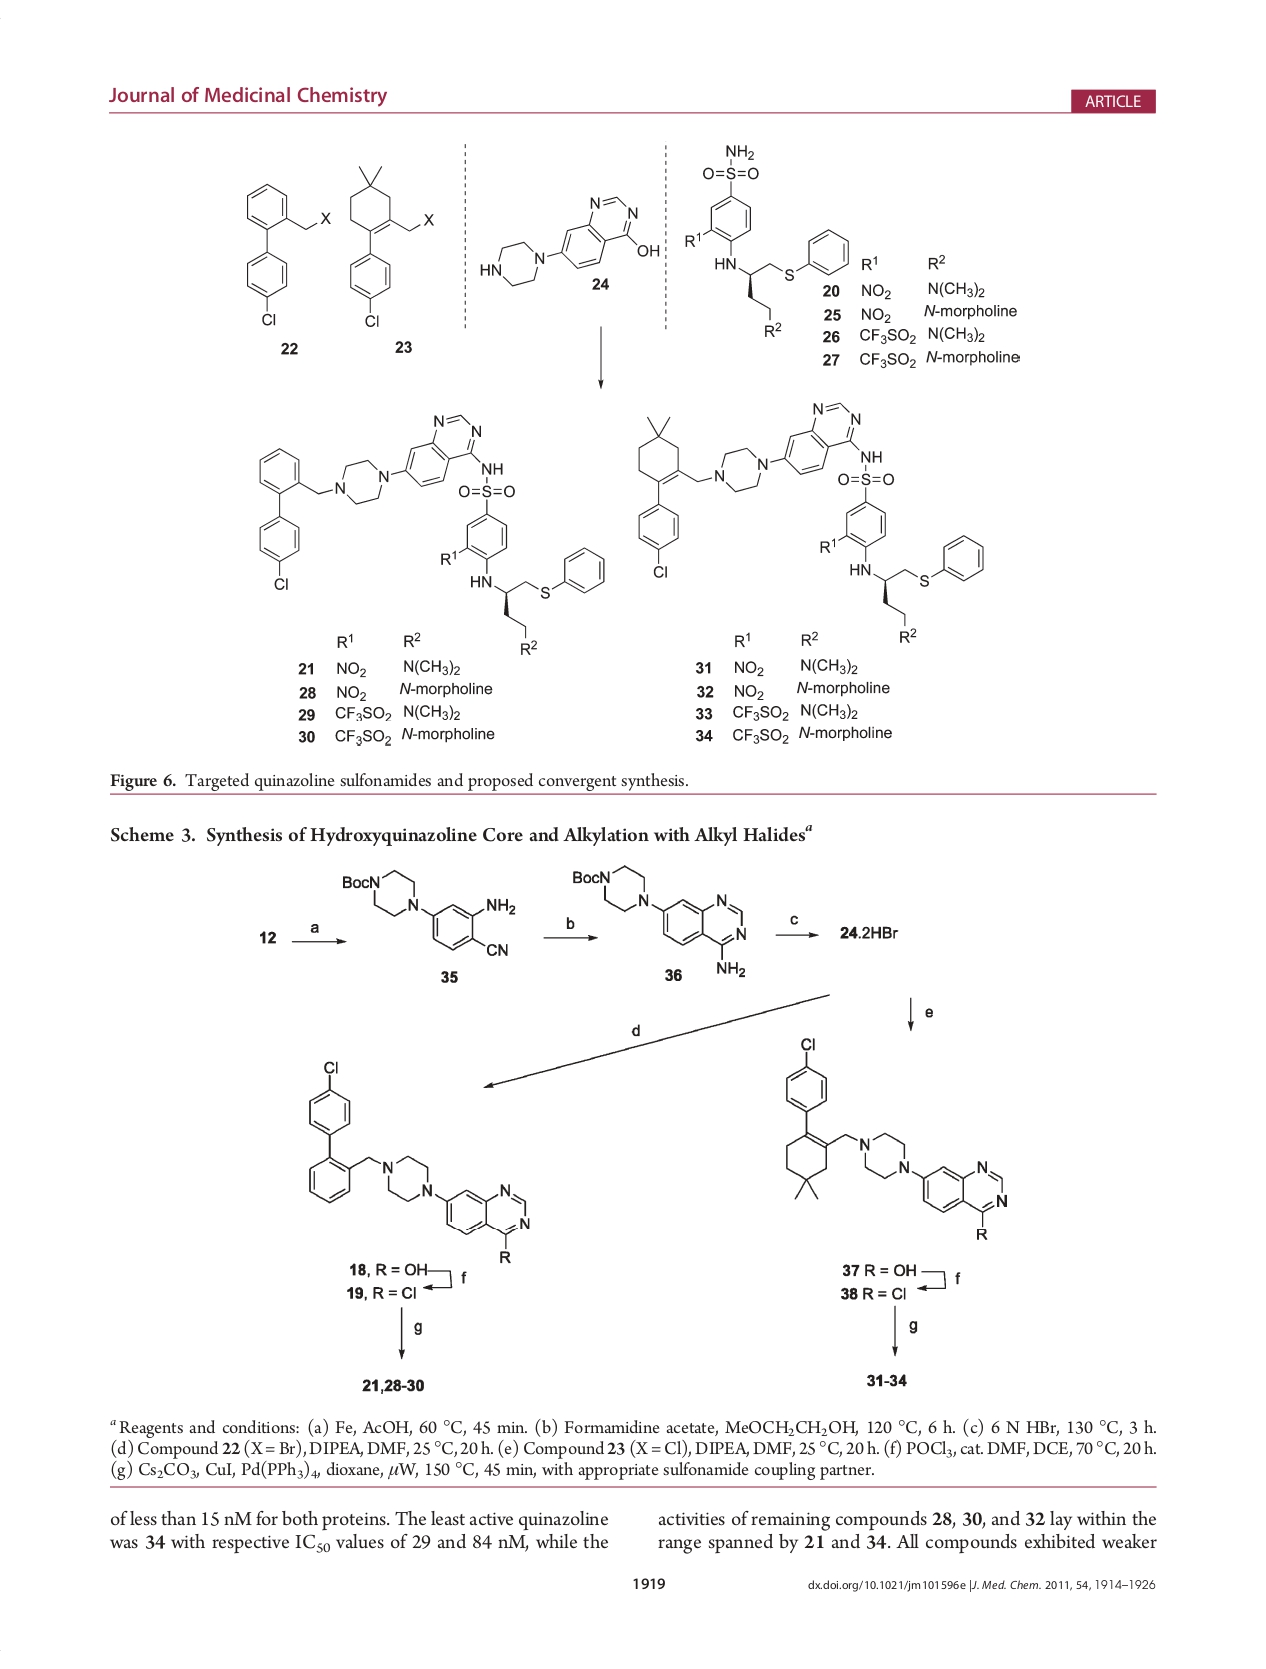exist_molecular: (255, 410, 609, 657), (633, 399, 987, 644), (782, 1036, 1011, 1243), (305, 1060, 533, 1266), (682, 140, 851, 340), (569, 864, 751, 980), (338, 863, 519, 963), (477, 193, 662, 289), (343, 162, 438, 330), (239, 177, 332, 328)
